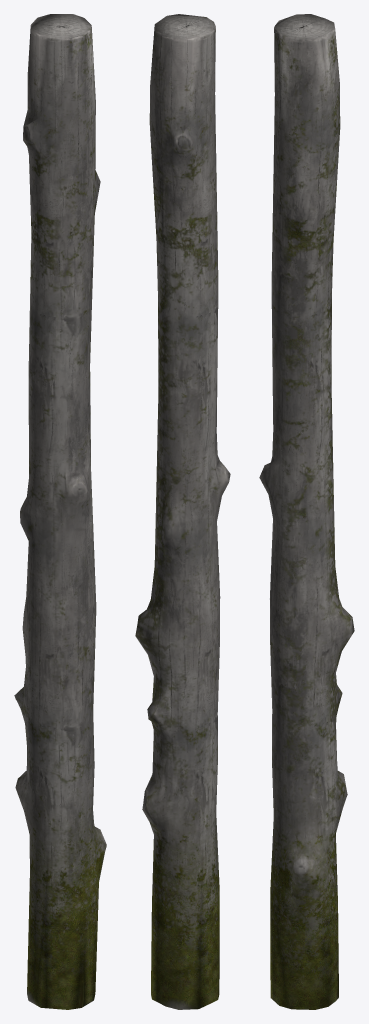
File: SM_Posts_B3.fbx
3 views of the same model, side by side, from view 1: azimuth 90°, elevation 25°; view 2: azimuth 150°, elevation 25°; view 3: azimuth 330°, elevation 25° (orthographic).
Visible parts, largest first — view 1: SM_Posts_B3_LOD0; view 2: SM_Posts_B3_LOD0; view 3: SM_Posts_B3_LOD0.
Boxes of the visible parts, x1,y1,x2,y2 form: SM_Posts_B3_LOD0: (14, 14, 106, 1009); SM_Posts_B3_LOD0: (135, 14, 230, 1009); SM_Posts_B3_LOD0: (259, 14, 354, 1009).
Bounding box in the file's own units: 22.02 × 23.64 × 274.
